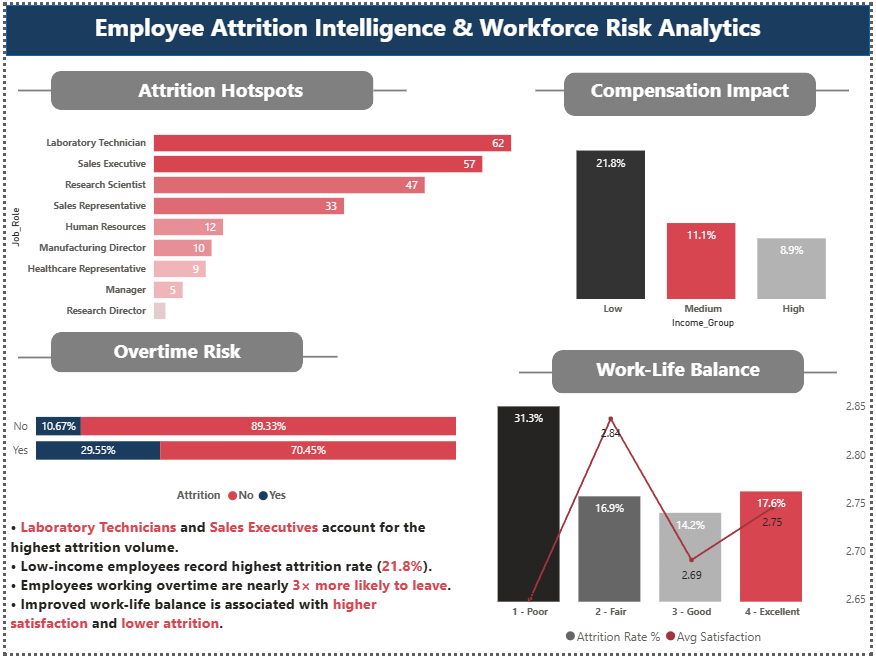

This screenshot's page, from the dashboard's own definition file:
{"tool":"powerbi","page":{"name":"Attrition Driver Analysis","canvas":[960,720],"ordinal":1},"visuals":[{"type":"shape","box":[0,0,960,56.7],"z":0},{"type":"textbox","box":[0,0,936.7,56.7],"z":1000},{"type":"clusteredBarChart","fields":{"Category":["HR_Data.Job_Role"],"Y":["HR_Data.Attrition Count"]},"box":[0,121.7,588.3,241.7],"z":2000},{"type":"shape","box":[50,73.3,358.3,43.3],"z":3000},{"type":"textbox","box":[68.3,73.3,340,43.3],"z":3001},{"type":"shape","box":[408.3,50,36.7,90],"z":3002},{"type":"shape","box":[13.3,50,36.7,90],"z":3003},{"type":"clusteredColumnChart","fields":{"Category":["HR_Data.Income_Group"],"Y":["HR_Data.Attrition Rate %"]},"box":[588.3,123.3,371.7,240],"z":3004},{"type":"shape","box":[620,75,280,48.3],"z":3005},{"type":"textbox","box":[620,73.3,280,48.3],"z":3006},{"type":"shape","box":[588.3,50,36.7,90],"z":3007},{"type":"shape","box":[900,50,36.7,90],"z":3008},{"type":"shape","box":[50,363.3,280,45],"z":3009},{"type":"shape","box":[606.7,383.3,280,48.3],"z":3010},{"type":"shape","box":[886.7,363.3,36.7,90],"z":3011},{"type":"shape","box":[570,363.3,36.7,90],"z":3012},{"type":"shape","box":[330,341.7,38.3,98.3],"z":3013},{"type":"shape","box":[13.3,346.7,36.7,90],"z":3014},{"type":"textbox","box":[50,363.3,280,45],"z":3015},{"type":"hundredPercentStackedBarChart","fields":{"Category":["HR_Data.OverTime"],"Series":["HR_Data.Attrition"],"Y":["Sum(HR_Data.Employee_Number)"]},"box":[0,420,505,143.3],"z":3016},{"type":"lineClusteredColumnComboChart","fields":{"Y":["HR_Data.Attrition Rate %"],"Y2":["HR_Data.Avg Satisfaction"],"Category":["HR_Data.WorkLife_Label"]},"box":[505,431.7,455,288.3],"z":3017},{"type":"textbox","box":[606.7,383.3,280,48.3],"z":3018},{"type":"textbox","box":[0,576.7,505,143.3],"z":3019}]}

Visuals, with their boxes in screenshot pixels (x1, y1, x2, y2), scaled from the page's 960x720 canvas onto the 876x659 screenshot:
shape: (0, 0, 875, 52)
textbox: (0, 0, 855, 52)
clusteredBarChart - HR_Data.Job_Role x HR_Data.Attrition Count: (0, 111, 537, 333)
shape: (46, 67, 373, 107)
textbox: (62, 67, 373, 107)
shape: (373, 46, 406, 128)
shape: (12, 46, 46, 128)
clusteredColumnChart - HR_Data.Income_Group x HR_Data.Attrition Rate %: (537, 113, 875, 333)
shape: (566, 69, 821, 113)
textbox: (566, 67, 821, 111)
shape: (537, 46, 570, 128)
shape: (821, 46, 855, 128)
shape: (46, 333, 301, 374)
shape: (554, 351, 809, 395)
shape: (809, 333, 843, 415)
shape: (520, 333, 554, 415)
shape: (301, 313, 336, 403)
shape: (12, 317, 46, 400)
textbox: (46, 333, 301, 374)
hundredPercentStackedBarChart - HR_Data.OverTime x HR_Data.Attrition: (0, 384, 461, 516)
lineClusteredColumnComboChart - HR_Data.Attrition Rate % x HR_Data.Avg Satisfaction: (461, 395, 875, 658)
textbox: (554, 351, 809, 395)
textbox: (0, 528, 461, 658)
